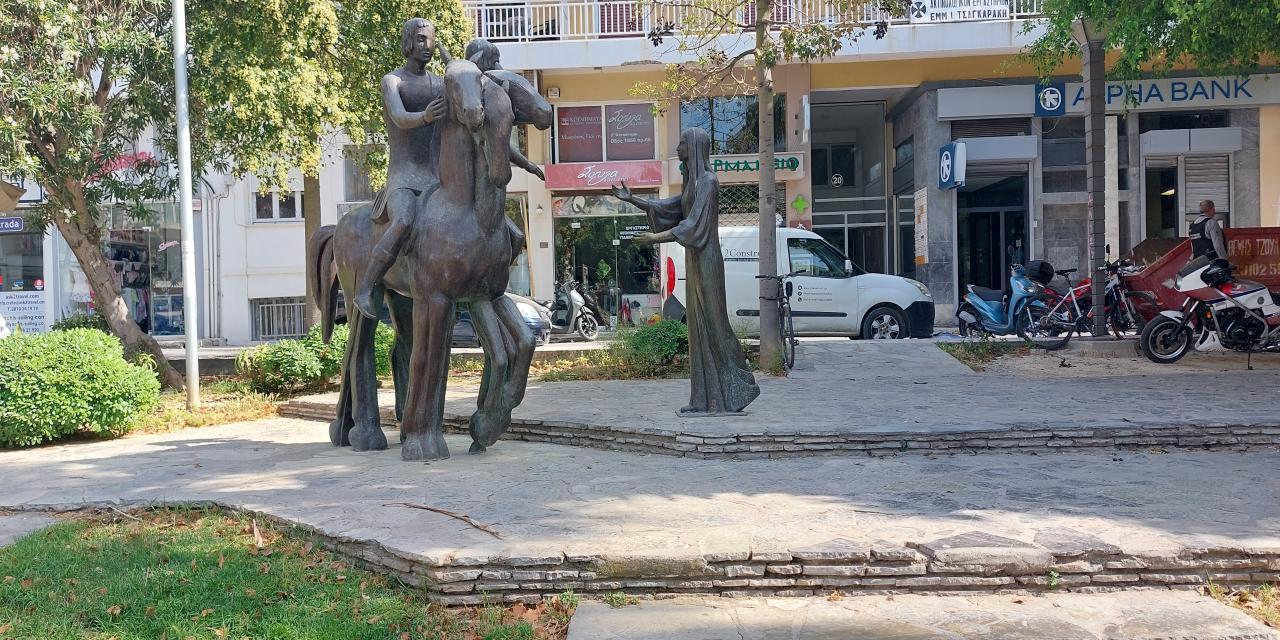Aretousa: (308, 20, 763, 462)
